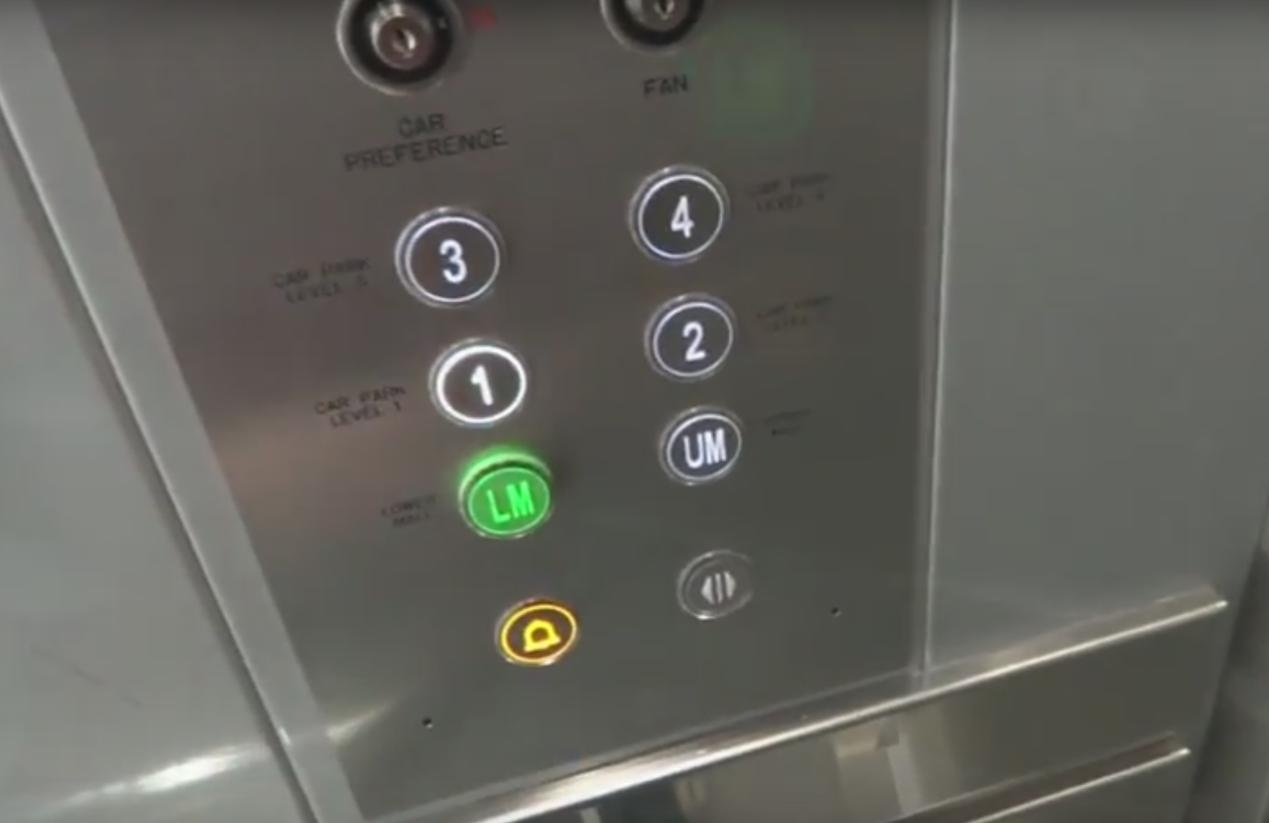1: (424, 333, 531, 428)
2: (641, 290, 739, 385)
3: (393, 203, 511, 311)
4: (626, 162, 734, 268)
LM: (454, 442, 559, 542)
UM: (653, 403, 747, 489)
alarm: (493, 594, 582, 668)
keyhole: (332, 1, 469, 98)
open: (674, 545, 761, 621)
